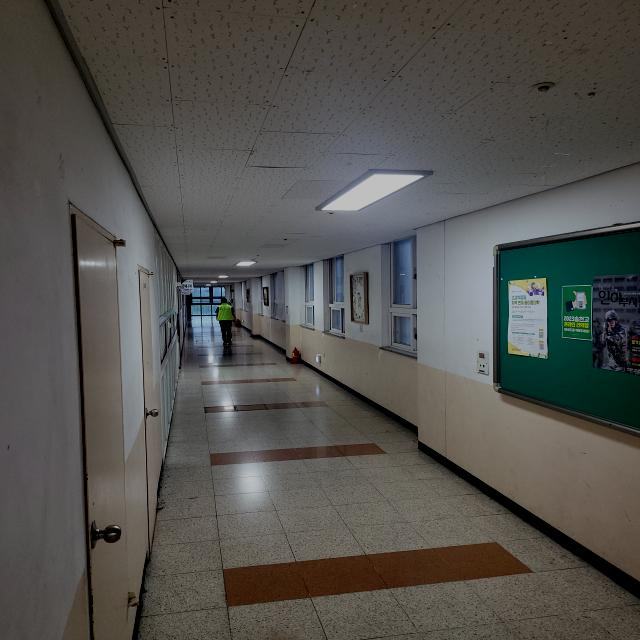weston_spy: (214, 304, 237, 324)
